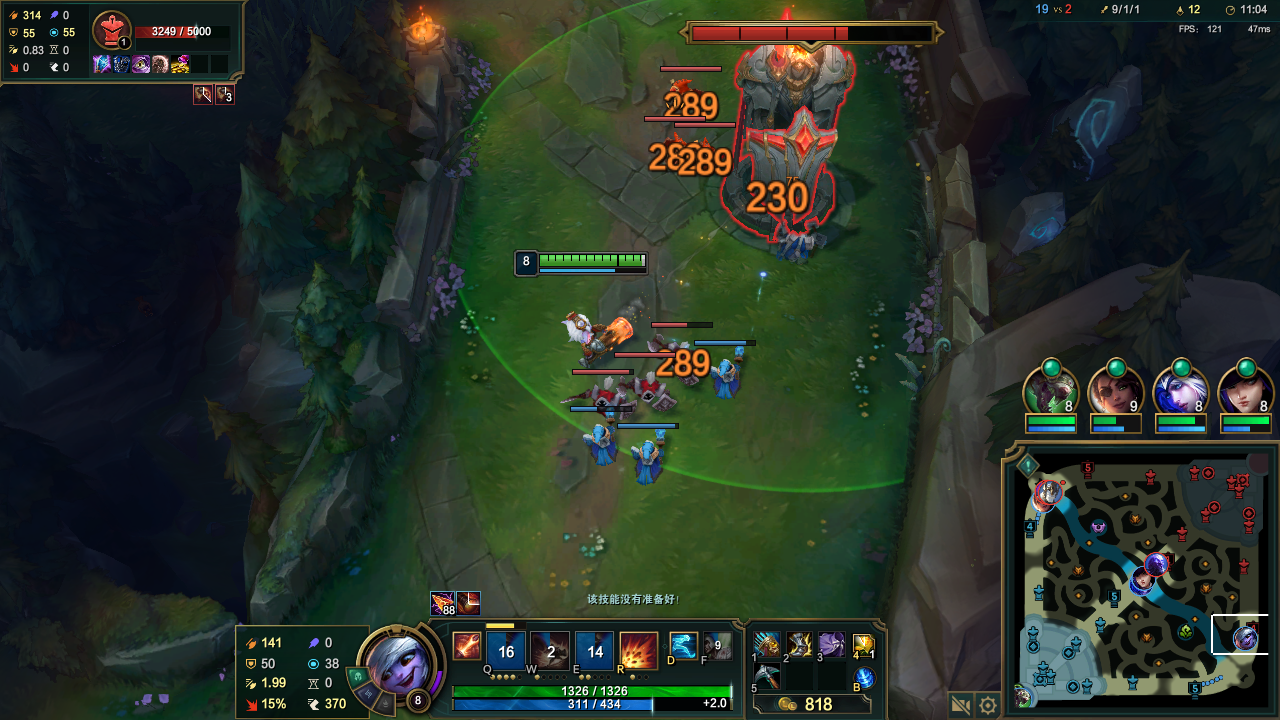DFFYT: (691, 17, 849, 249)
DFXB: (613, 366, 680, 419), (565, 374, 636, 414)
WFXB: (577, 414, 628, 469), (624, 430, 673, 486), (703, 352, 749, 394)
Yita: (1184, 674, 1203, 700)
